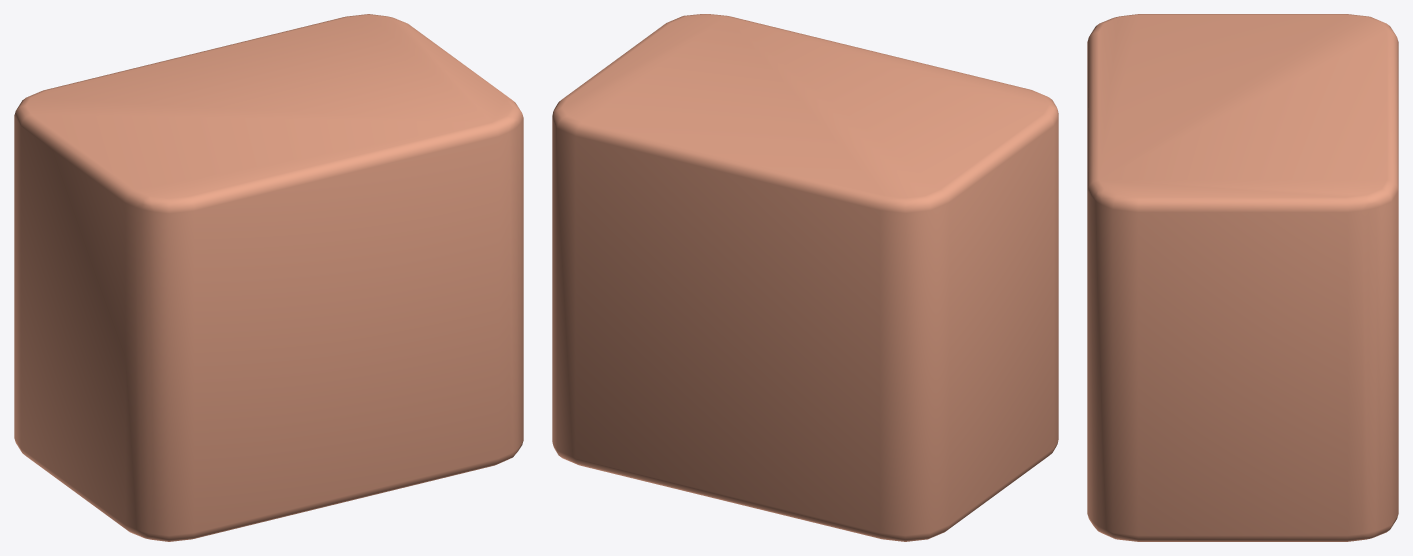
File: island_lv6_1.fbx
3 renders of one model, left to right at view 1: azimuth 30°, elevation 25°; view 2: azimuth 150°, elevation 25°; view 3: azimuth 270°, elevation 25°, orthographic.
Parts seen in each view (by area): view 1: island_lv6_1; view 2: island_lv6_1; view 3: island_lv6_1.
Part boxes in pixels (left/top/right/bottom): island_lv6_1: left=14, top=14, right=523, bottom=541; island_lv6_1: left=552, top=14, right=1058, bottom=541; island_lv6_1: left=1087, top=14, right=1398, bottom=541.
Bounding box in the file's own units: 598 × 500 × 410.
